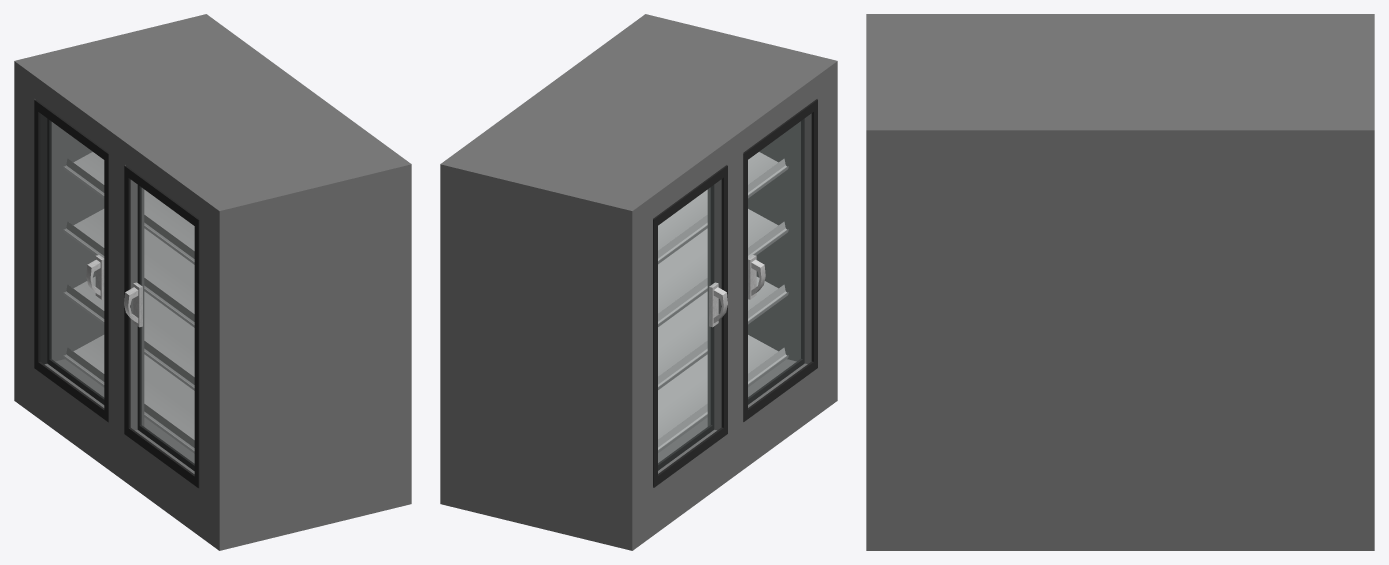
Rendered from Fridge.fbx.
3 renders of one model, left to right at view 1: azimuth 30°, elevation 25°; view 2: azimuth 150°, elevation 25°; view 3: azimuth 270°, elevation 25°, orthographic. The views are drawn at different scales.
Parts seen in each view (by area): view 1: pCube42; view 2: pCube42; view 3: pCube42.
Part boxes in pixels (x1,y1,x2,y2): pCube42: (14,14,411,550); pCube42: (440,14,837,550); pCube42: (866,14,1374,550).
Bounding box in the file's own units: 7.32 × 11.77 × 12.9.
Materials: 2 (1 with a texture image).
